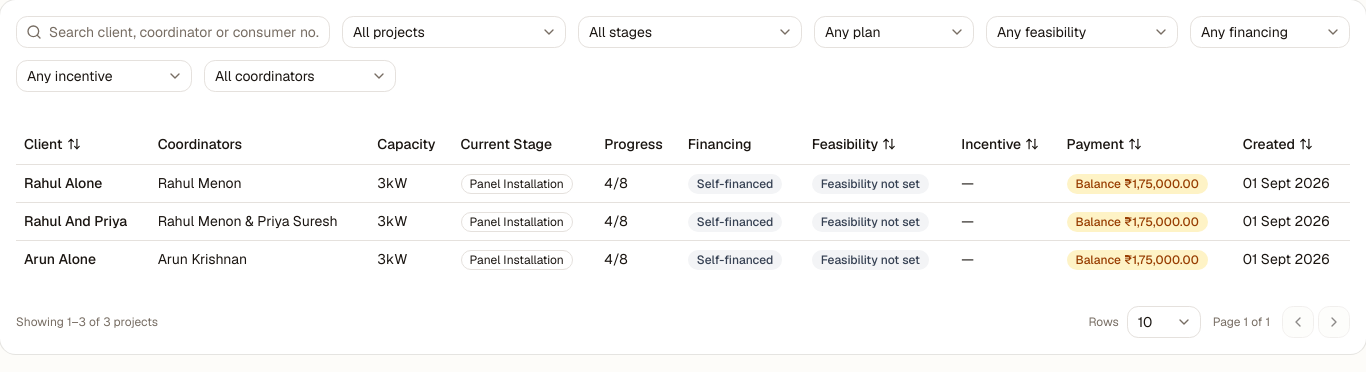
it: ProjectsTable — filters › matches a coordinator on any of the sale's team, not only its first
This screenshot has width=1366, height=372.
Click the dropdown labelled "All coordinators": (300, 76) [204,60,396,92]
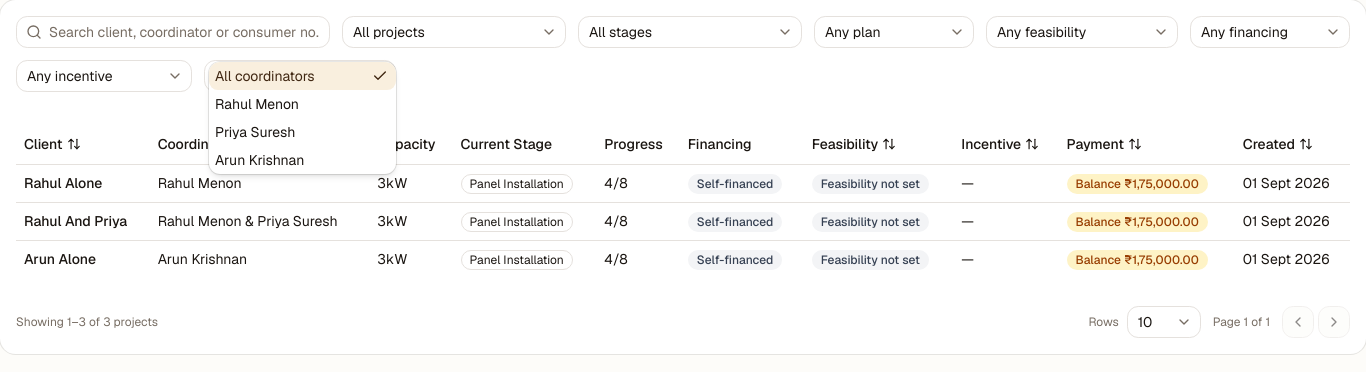
Click the option "Priya Suresh": (255, 132) [215,123,295,141]
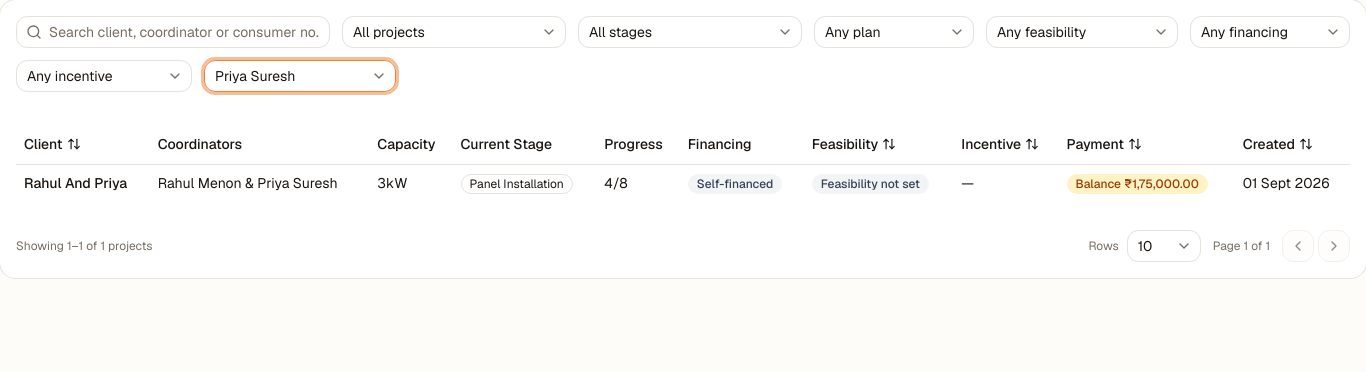
Expected: the text "Rahul And Priya" is shown, [24,174,127,192]
Expected: the text "Rahul Alone" is gone
Expected: the text "Arun Alone" is gone
